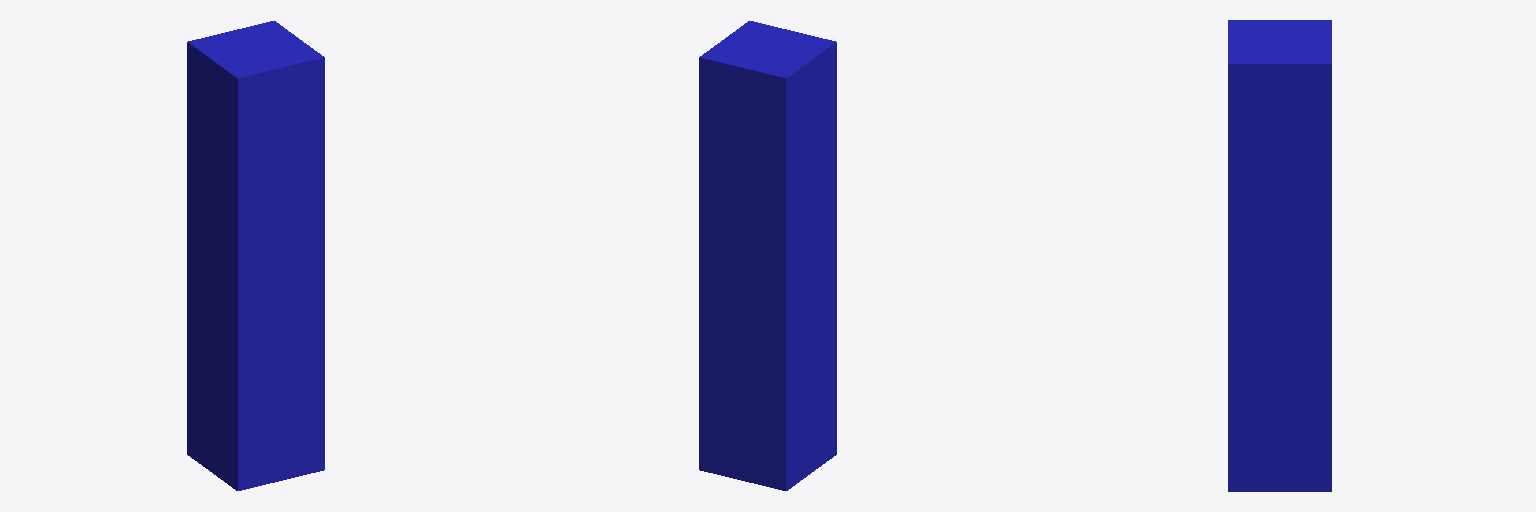
The robot description file, URDF, robot "cube":
<?xml version="1.0" ?>
<robot name="cube">

  <link name="cube">
    <visual>
      <geometry>
        <box size=".03 .03 .136"/>
      </geometry>
      <material name="blue">
        <color rgba="0.2 0.2 0.8 0"/>
      </material>
    </visual>
    <collision>
      <geometry>
        <box size=".03 .03 .136"/>
      </geometry>
    </collision>
    <inertial>
      <mass value="0.2"/>
      <inertia ixx="1" ixy="0" ixz="0" iyy="1.3" iyz="0" izz="0.5"/>
    </inertial>
  </link>
</robot>

--- Render facts (derived) ---
The picture shows the robot from 3 angles, left to right: view 1: azimuth 30°, elevation 25°; view 2: azimuth 150°, elevation 25°; view 3: azimuth 270°, elevation 25°; orthographic projection.
Robot: cube — 1 links, 0 joints (none); root link cube; default pose: all joints at 0.
Links seen in each view (by area): view 1: cube; view 2: cube; view 3: cube.
Boxes of the visible links, x1,y1,x2,y2 form: cube: (187,21,324,490); cube: (699,21,836,490); cube: (1228,20,1331,491).
Size in the robot's own frame: 0.03 by 0.03 by 0.136 metres.
Geometry: primitives only (box / cylinder / sphere), no mesh files.
